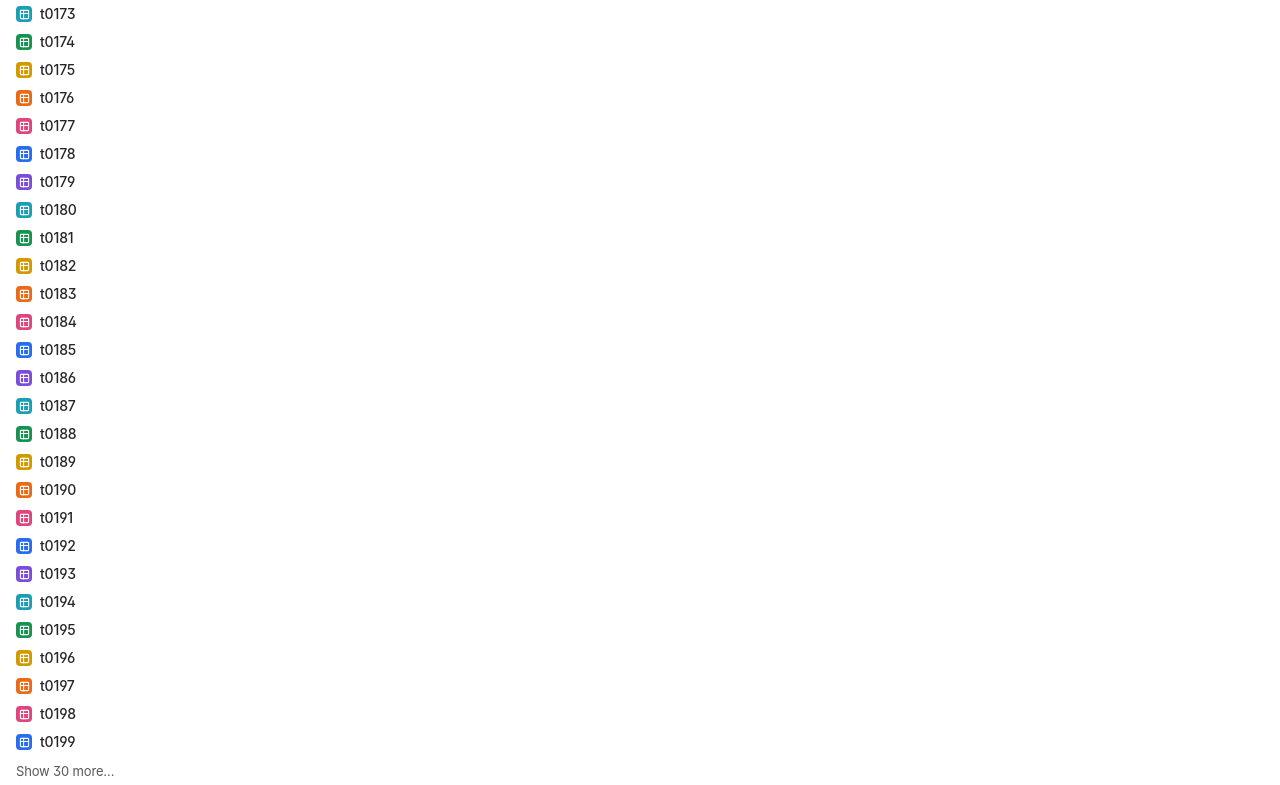
a schema with a great many tables › reveals the rest on request
(page scrolled)
Click the button "Show 30 more…": coordinates (35, 771) [8, 757, 1272, 784]
(page scrolled)
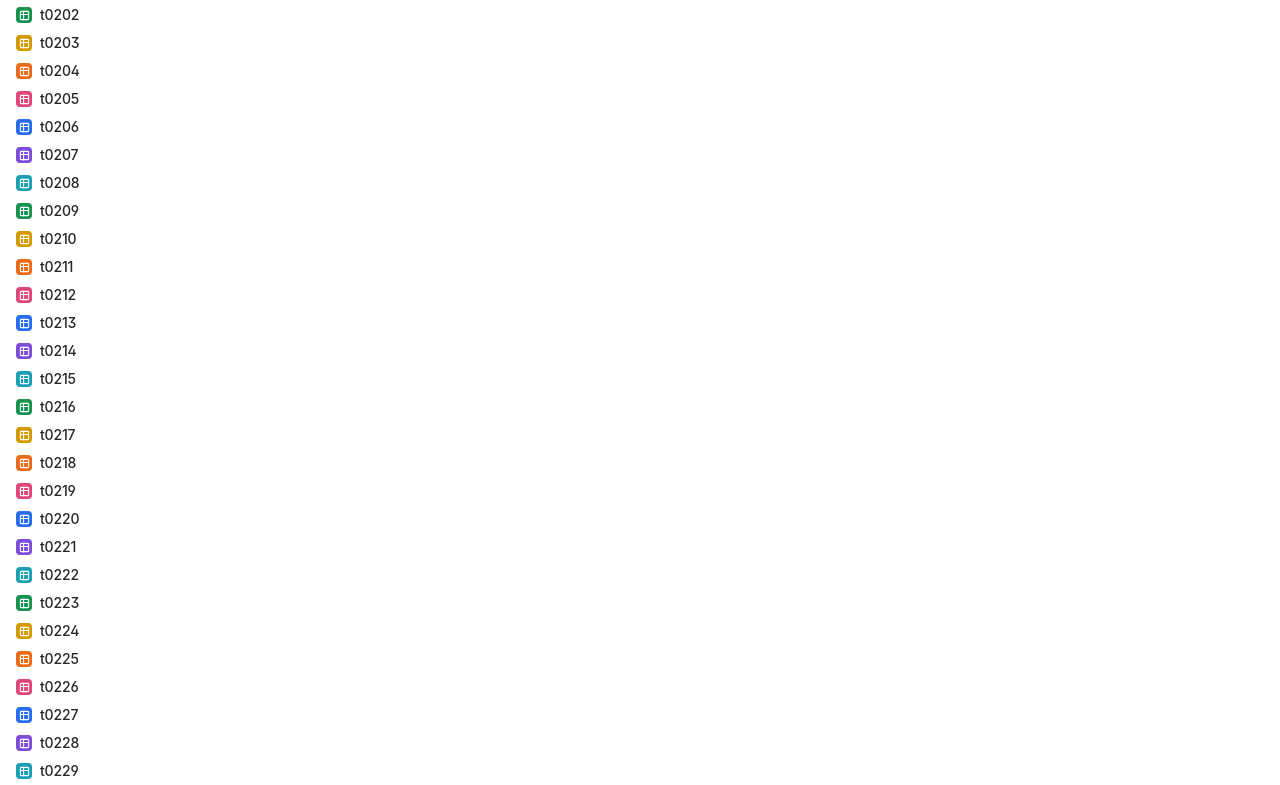
Result: the text "t0229" is shown at [40, 761, 79, 781]
Result: the button "Show 30 more…" is gone
